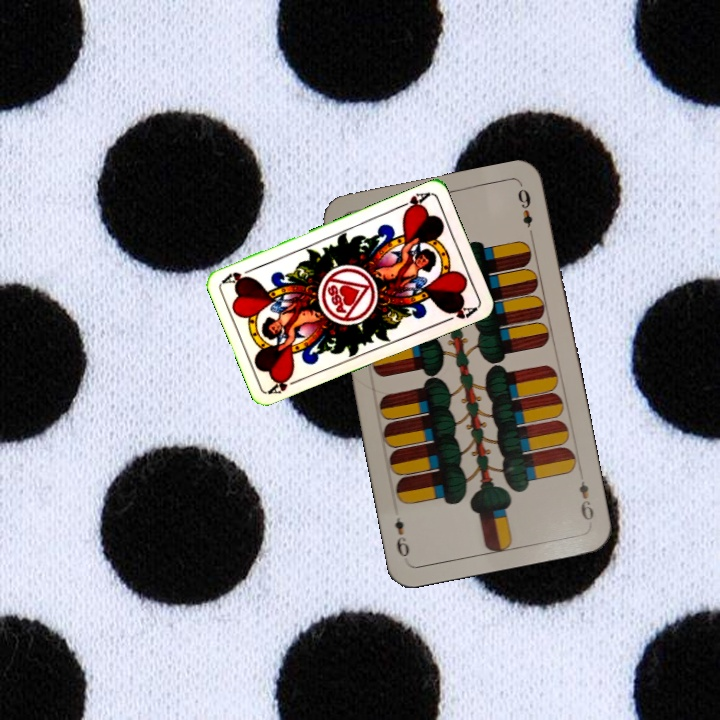E9: (575, 477, 597, 523)
HA: (393, 188, 432, 216), (265, 371, 304, 397)
